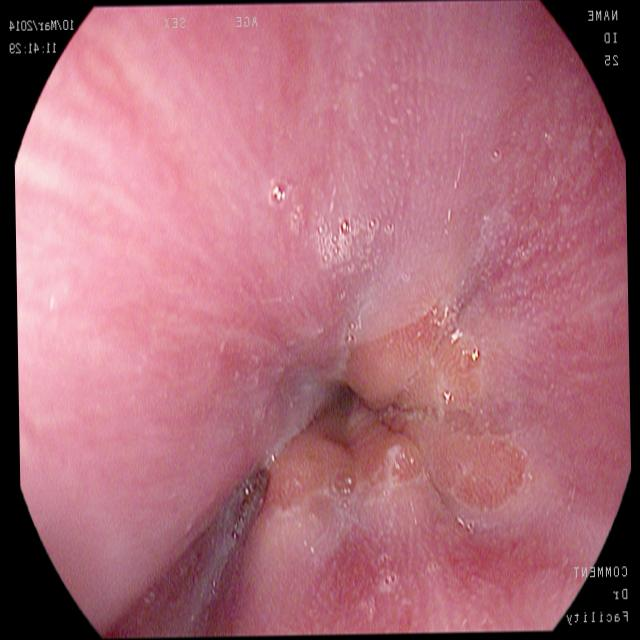Normal-Z-Line: (244, 256, 533, 525)
